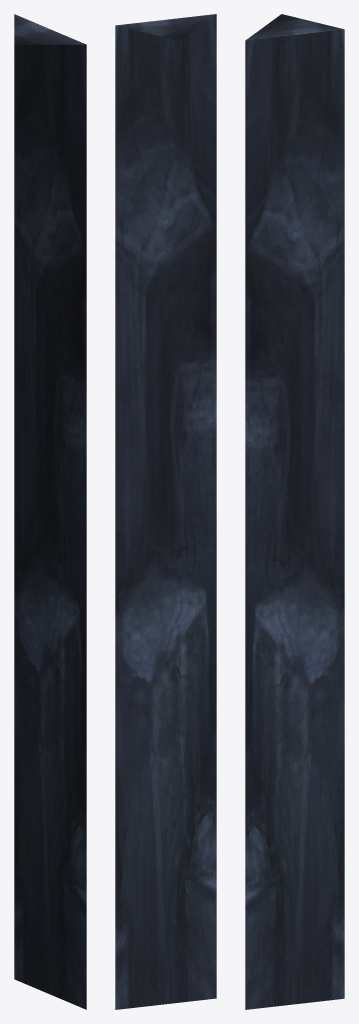
Rendered from mine_wall_convex_01.fbx.
3 renders of one model, left to right at view 1: azimuth 90°, elevation 25°; view 2: azimuth 150°, elevation 25°; view 3: azimuth 330°, elevation 25°, orthographic.
Visible parts, largest first — view 1: mine_wall_convex_01-0; view 2: mine_wall_convex_01-0; view 3: mine_wall_convex_01-0.
Part boxes in pixels (x1=…): mine_wall_convex_01-0: x1=14, y1=14, x2=86, y2=1009; mine_wall_convex_01-0: x1=115, y1=14, x2=216, y2=1009; mine_wall_convex_01-0: x1=245, y1=14, x2=344, y2=1009.
Bounding box in the file's own units: 0.375 × 5.5 × 0.375.
